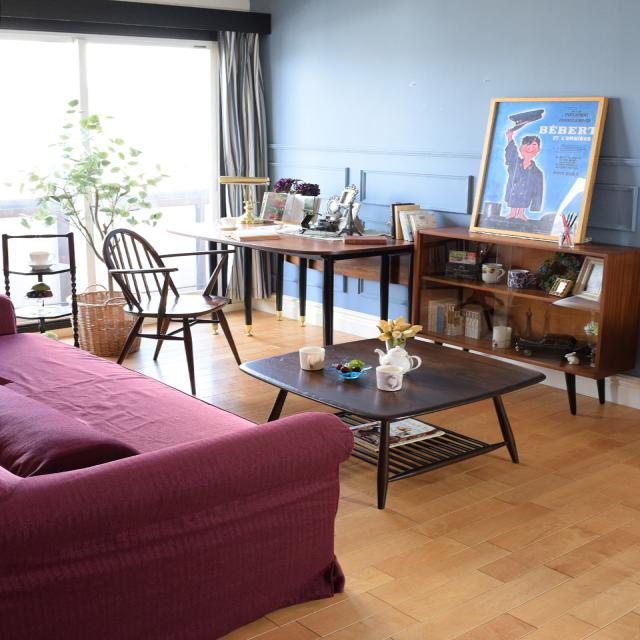vintage chair: (94, 228, 242, 400)
vintage desk: (242, 329, 546, 427), (187, 212, 397, 333)
vintage shelf: (415, 222, 624, 373)
